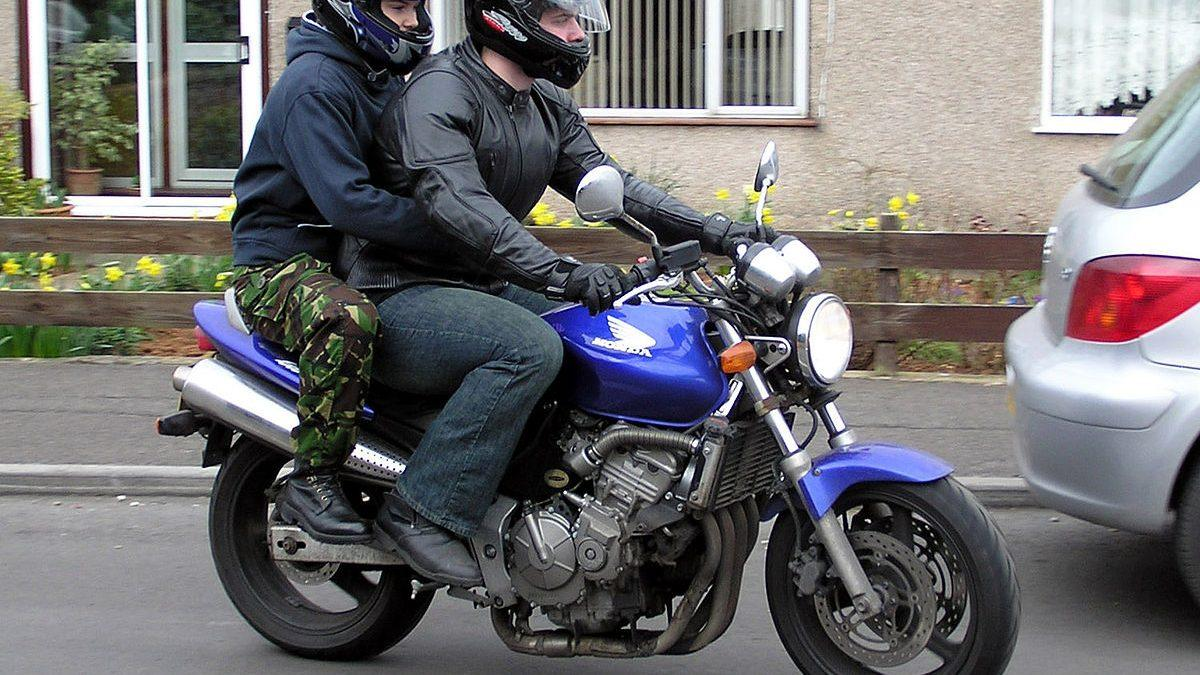helmet: (465, 0, 589, 101), (275, 0, 447, 55)
